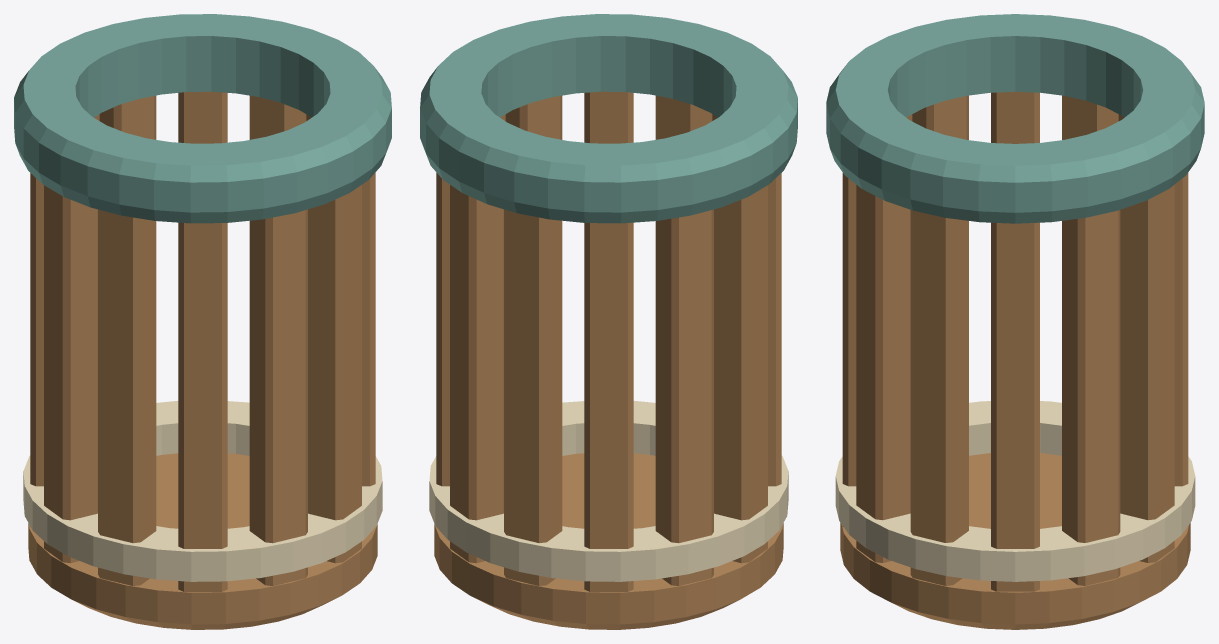
The picture shows the model from 3 angles, left to right: view 1: azimuth 30°, elevation 25°; view 2: azimuth 150°, elevation 25°; view 3: azimuth 270°, elevation 25°; orthographic projection.
Visible parts, largest first — view 1: entryway-umbrella-bin-01; view 2: entryway-umbrella-bin-01; view 3: entryway-umbrella-bin-01.
Part boxes in pixels (<box>): entryway-umbrella-bin-01: <box>14,14,391,629</box>; entryway-umbrella-bin-01: <box>420,14,797,629</box>; entryway-umbrella-bin-01: <box>826,14,1204,629</box>.
Size of the model in its own units: 0.4 by 0.555 by 0.4.
